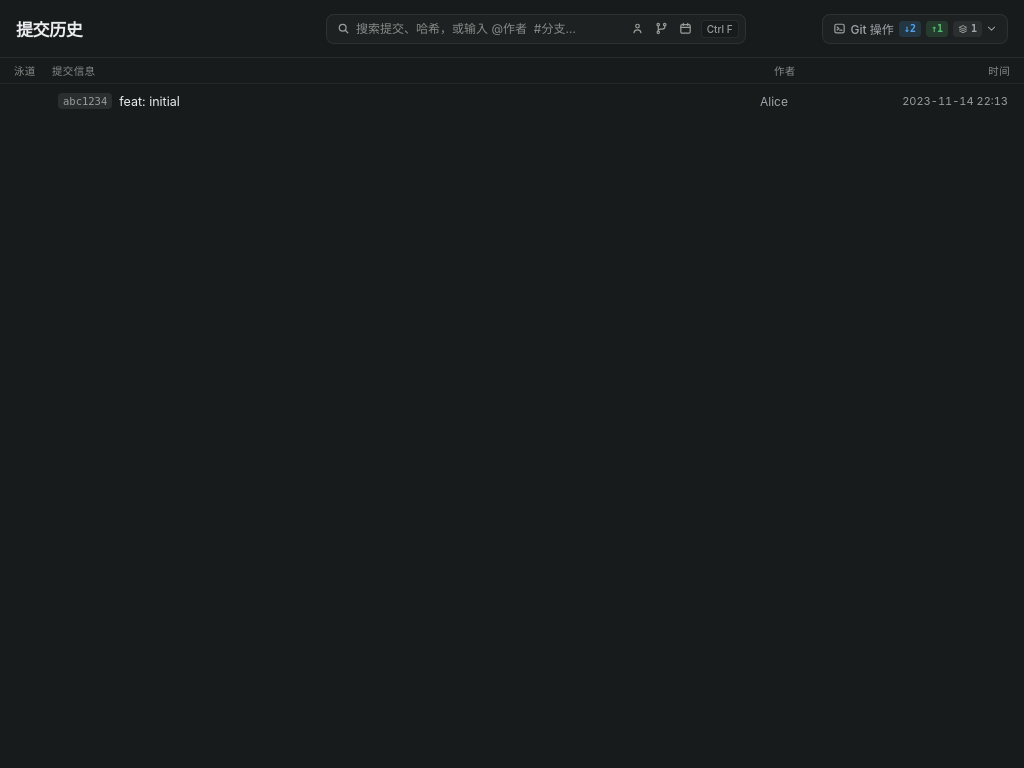
Scenario: CommitComposer (4.4 enhancements) › consolidates log toolbar actions into one Git 操作 menu with ahead/behind/stash badges
Click the button "Git 操作 ↓2 ↑1 1" at coordinates (915, 28), box [823, 14, 1007, 42]
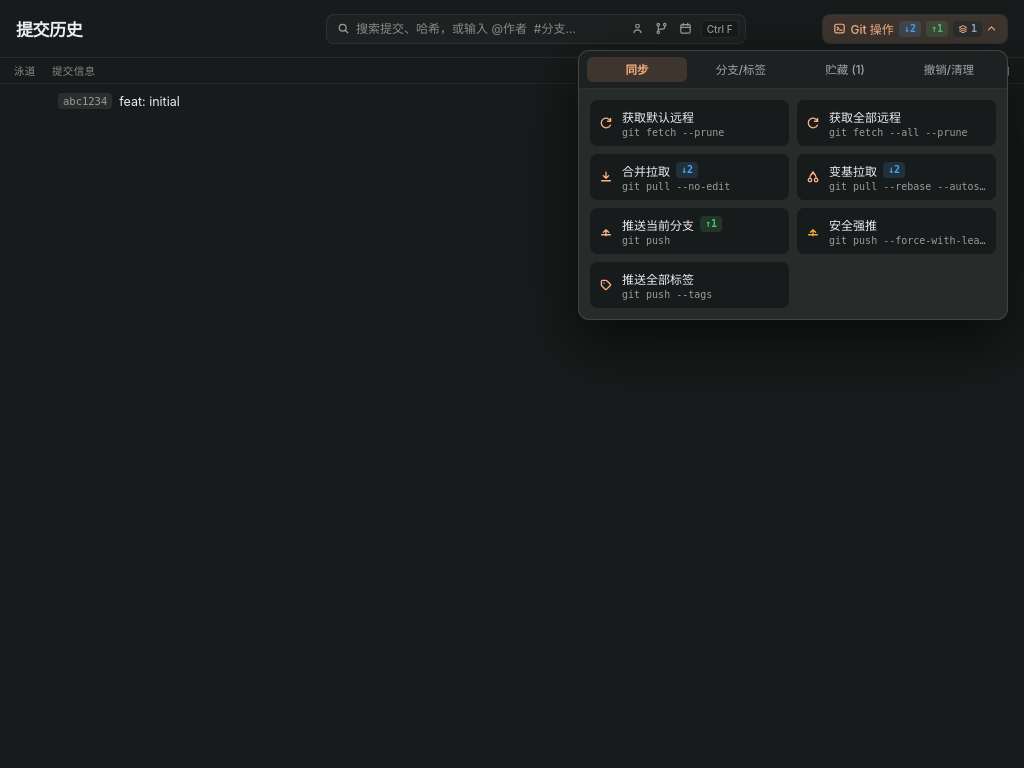
Check: the dialog named "Git 命令中心" is shown, box [578, 50, 1008, 320]
Check: the tab "同步" is shown, box [587, 56, 687, 82]
Check: the tab "分支/标签" is shown, box [691, 56, 791, 82]
